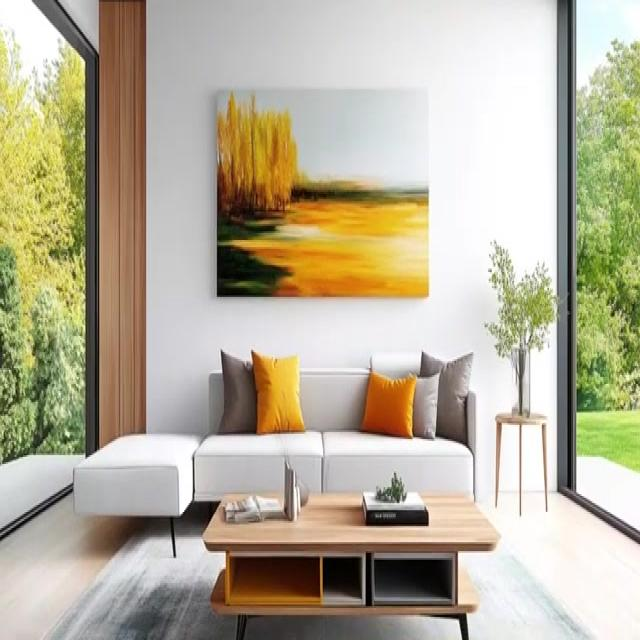obstacle: (192, 351, 477, 508), (202, 491, 500, 638), (494, 410, 548, 516)
